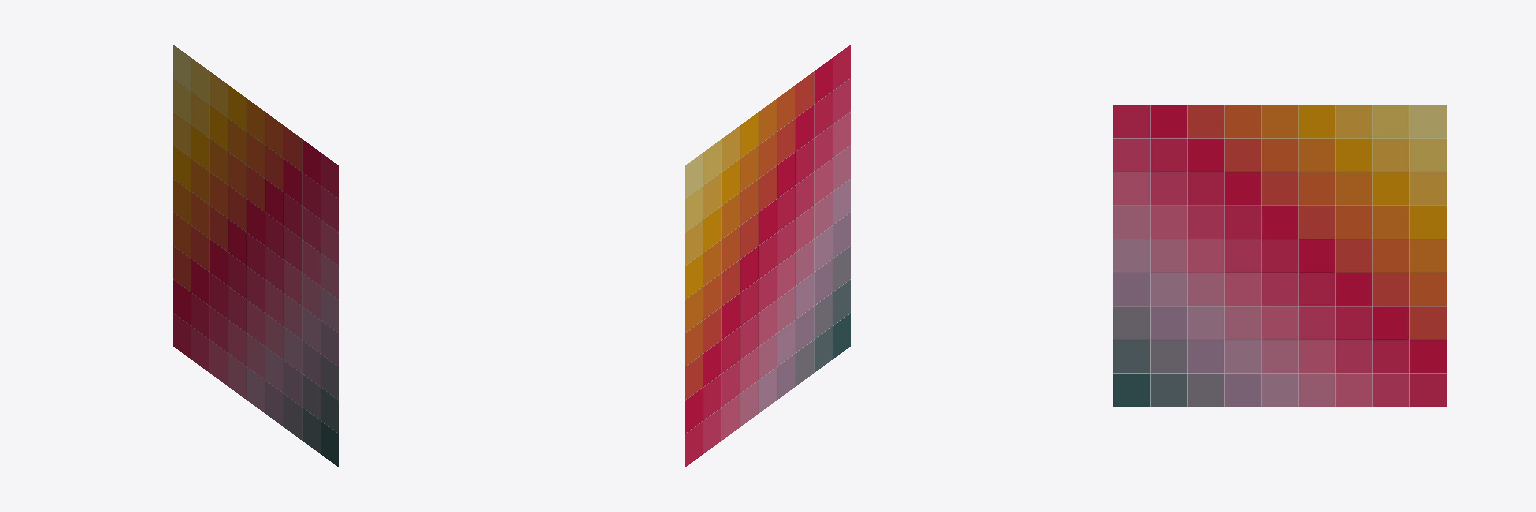
3 renders of one model, left to right at view 1: azimuth 30°, elevation 25°; view 2: azimuth 150°, elevation 25°; view 3: azimuth 270°, elevation 25°, orthographic.
Parts seen in each view (by area): view 1: Plane; view 2: Plane; view 3: Plane.
Boxes of the visible parts, box(x1,y1,x2,y2) form: Plane: box(173, 45, 338, 466); Plane: box(685, 45, 850, 466); Plane: box(1113, 105, 1446, 406).
Size of the model in its own units: 0 by 2 by 2.
1 materials, 1 textured.